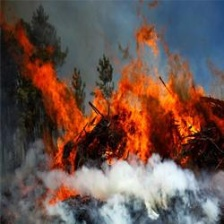fire: (29, 53, 211, 177)
smoke: (8, 159, 223, 224)
